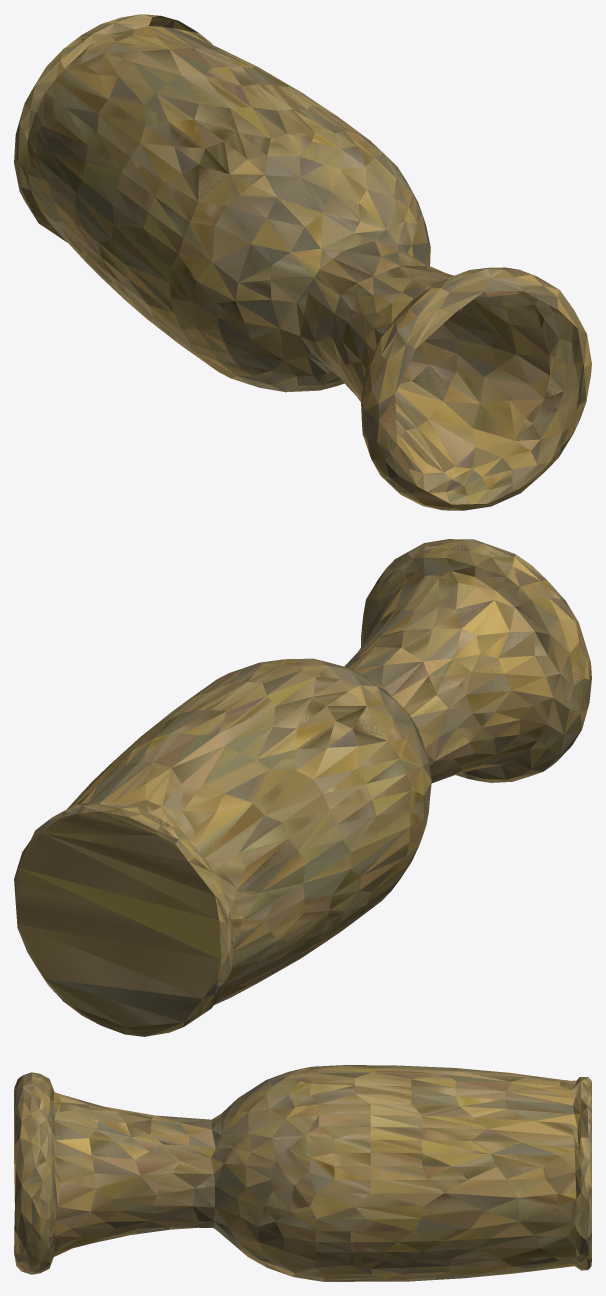
Rendered from model_align.obj.
The picture shows the model from 3 angles, top to bottom: view 1: azimuth 30°, elevation 25°; view 2: azimuth 150°, elevation 25°; view 3: azimuth 270°, elevation 25°; orthographic projection. The views are drawn at different scales.
Bounding box in the file's own units: 0.0909 × 0.0909 × 0.242.
